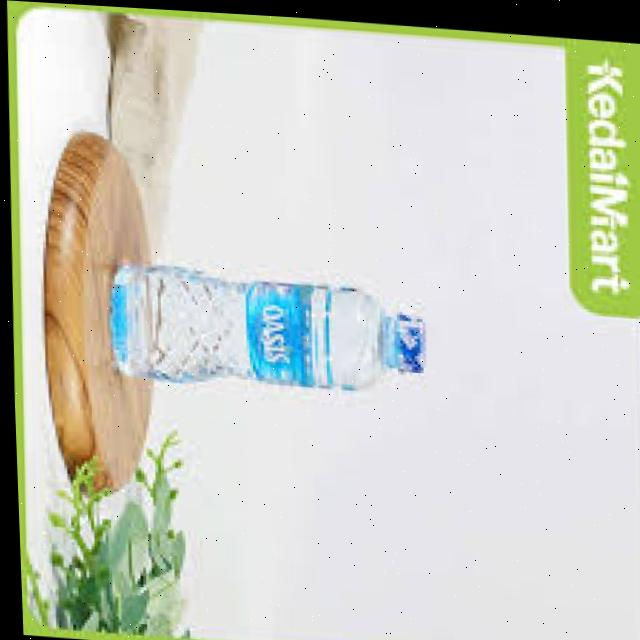Dry: (91, 261, 440, 419)
